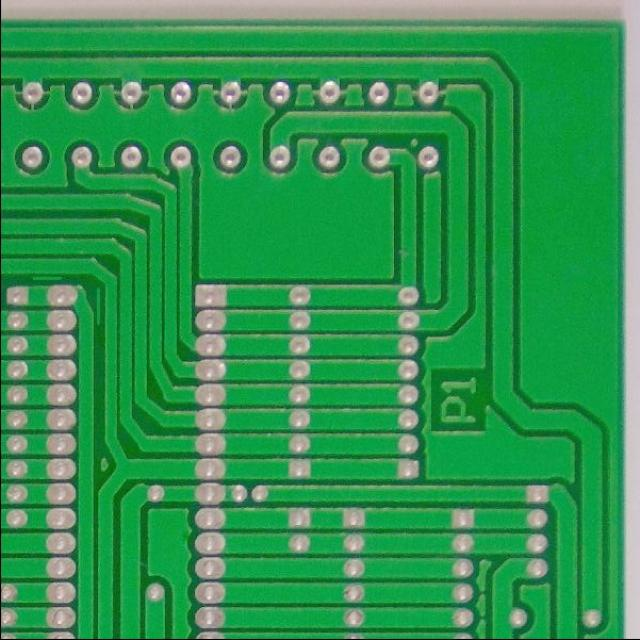Spurious_Cooper: (92, 284, 105, 328), (29, 271, 64, 282)
